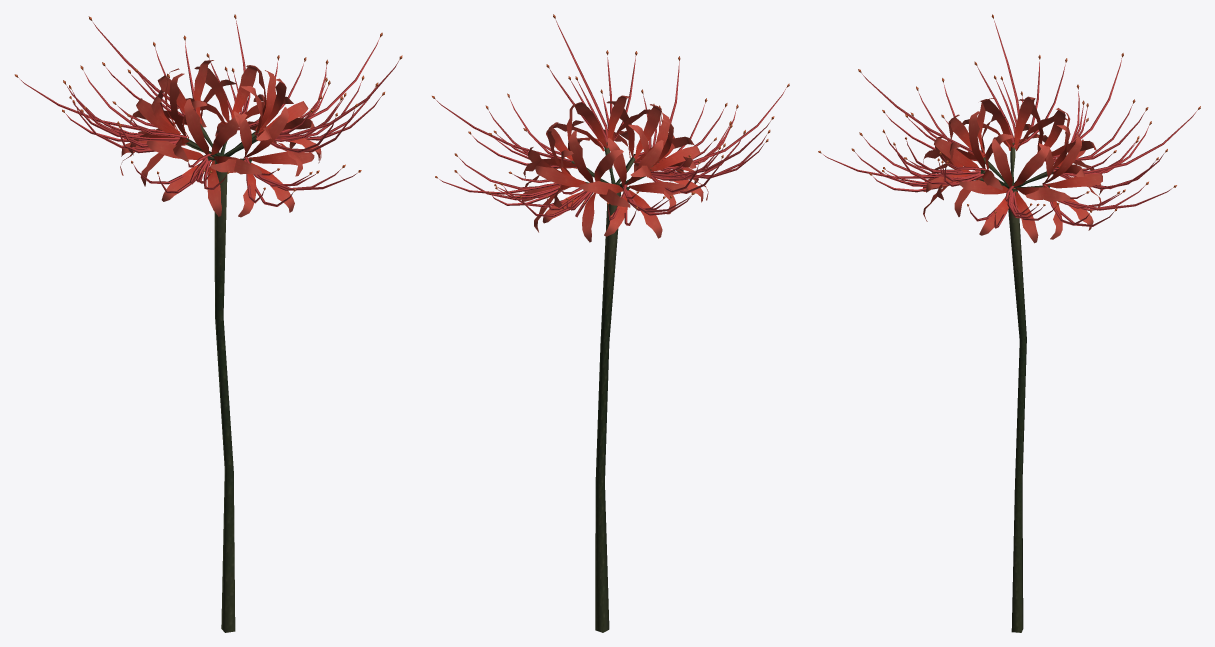
Rendered from higanbana.glb.
3 renders of one model, left to right at view 1: azimuth 30°, elevation 25°; view 2: azimuth 150°, elevation 25°; view 3: azimuth 270°, elevation 25°, orthographic. The views are drawn at different scales.
Parts seen in each view (by area): view 1: Higanbana_CC0_Sabinezumi; view 2: Higanbana_CC0_Sabinezumi; view 3: Higanbana_CC0_Sabinezumi.
Part boxes in pixels (left/top/right/bottom): Higanbana_CC0_Sabinezumi: left=14, top=14, right=402, bottom=632; Higanbana_CC0_Sabinezumi: left=432, top=14, right=789, bottom=632; Higanbana_CC0_Sabinezumi: left=818, top=14, right=1200, bottom=632.
Size of the model in its own units: 0.3739 by 0.62 by 0.3951.
1 material, 1 textured.
